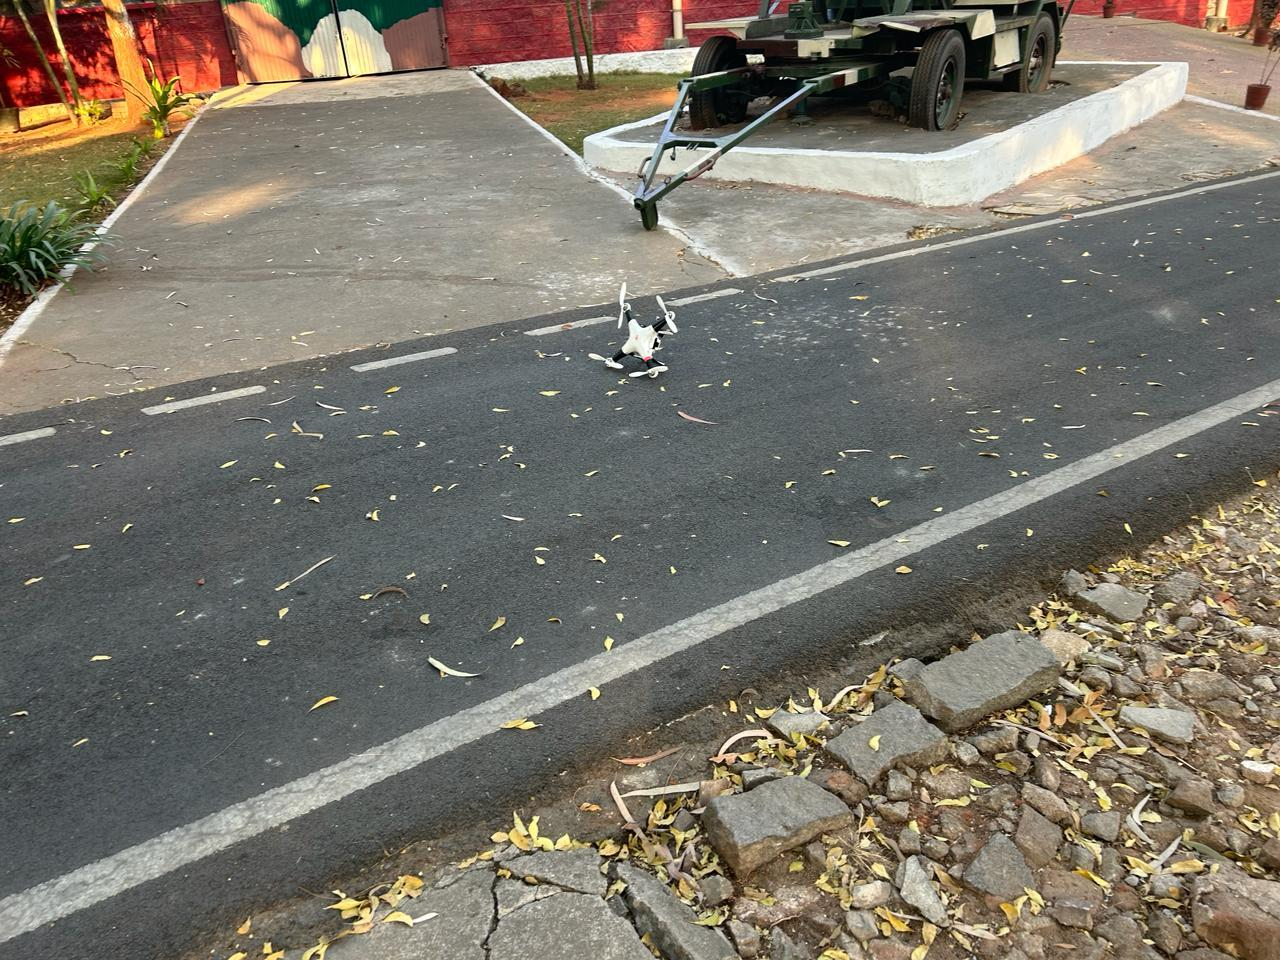drone: (532, 260, 744, 412)
